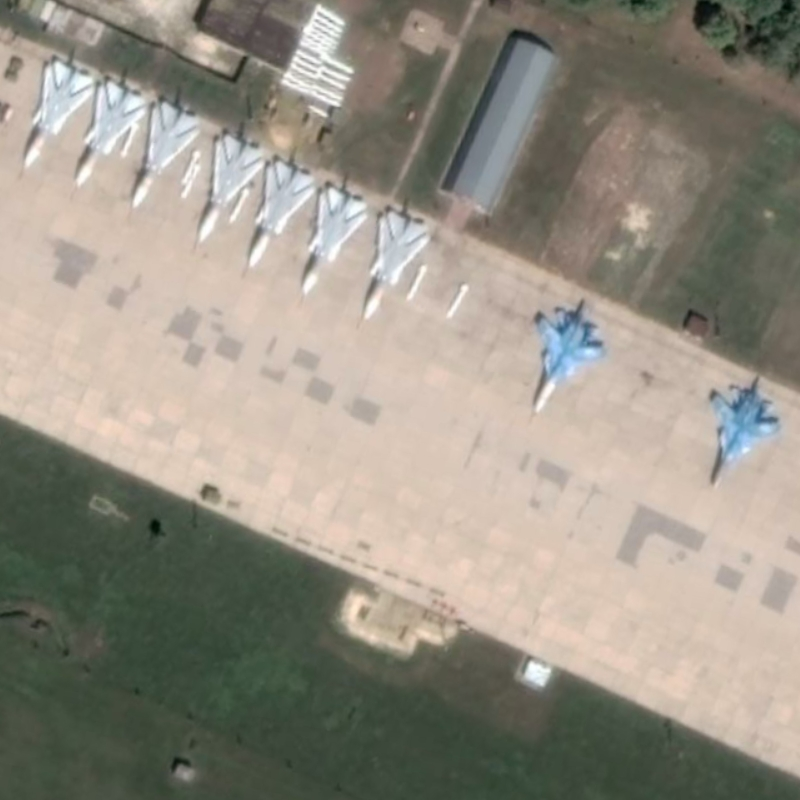A19: (531, 296, 612, 417), (707, 374, 785, 492)
A20: (22, 58, 98, 170), (360, 208, 435, 321), (72, 79, 149, 189), (128, 99, 204, 210), (195, 132, 268, 246), (300, 184, 372, 296), (246, 159, 319, 269)
